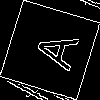A: (25, 25, 80, 72)
